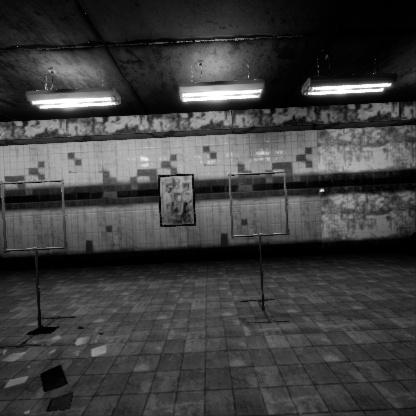gate: (1, 163, 73, 237), (228, 177, 294, 245)
